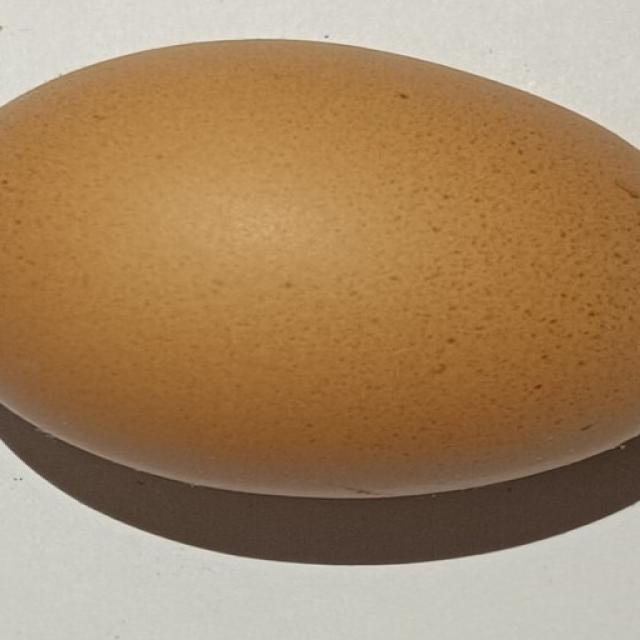unfresh: (0, 35, 640, 494)
